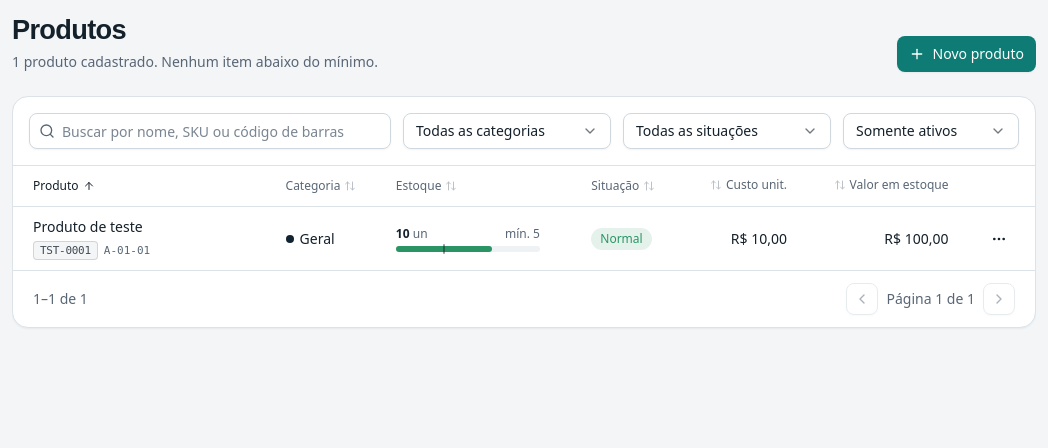
Scenario: página de produtos › filtra pela busca
Step 1. Type "inexistente" into the field labelled "Buscar por nome, SKU ou código de barras" → {"x": 210, "y": 131}, box [29,113,391,149]
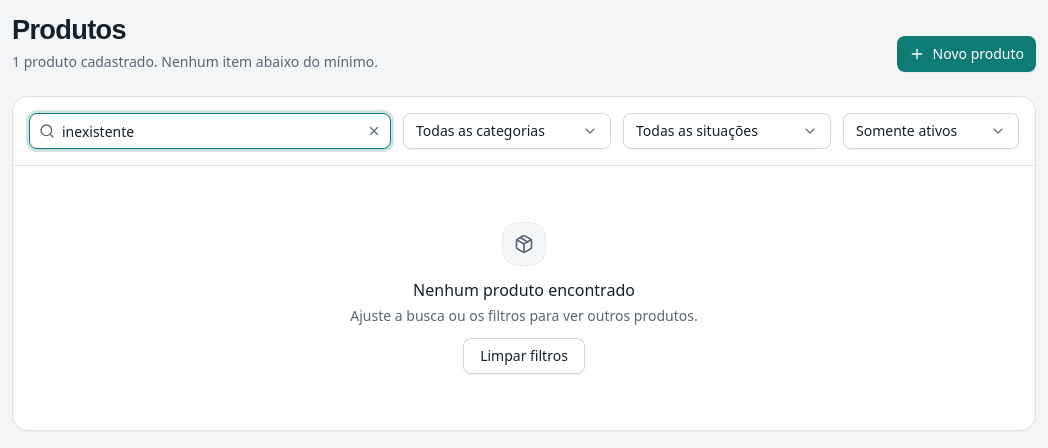
Check: the text "Nenhum produto encontrado" is shown, box [413,279,635,301]
